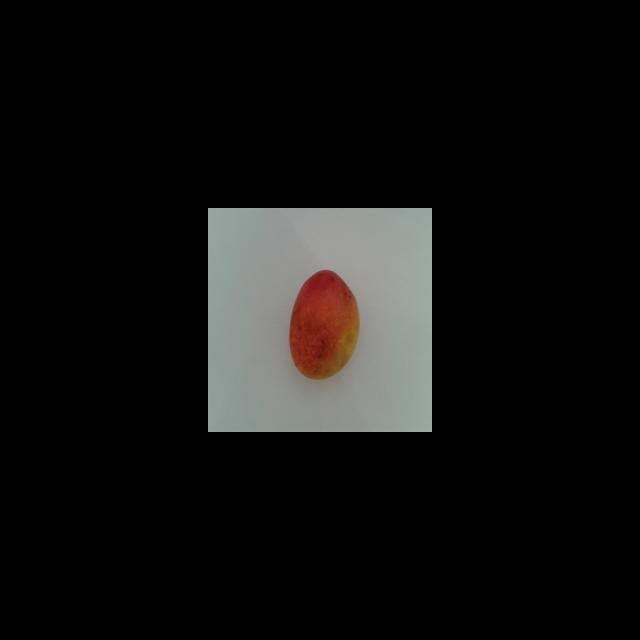Mango: (288, 269, 359, 379)
